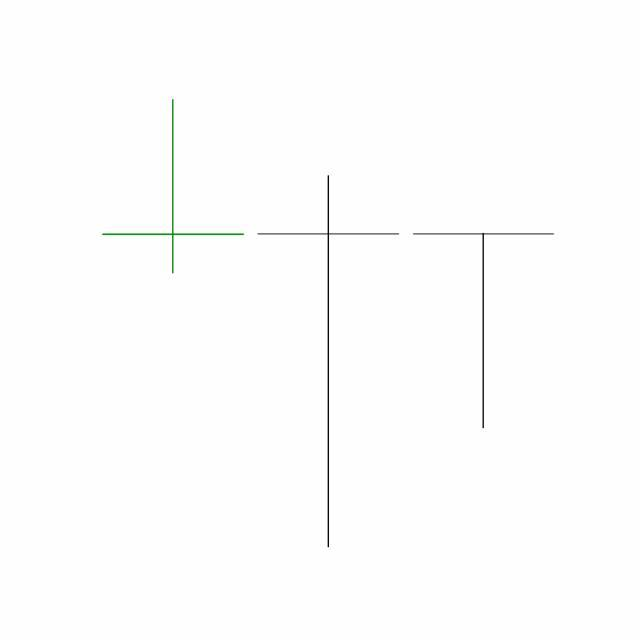Dragonfly Doji: (406, 231, 562, 431)
